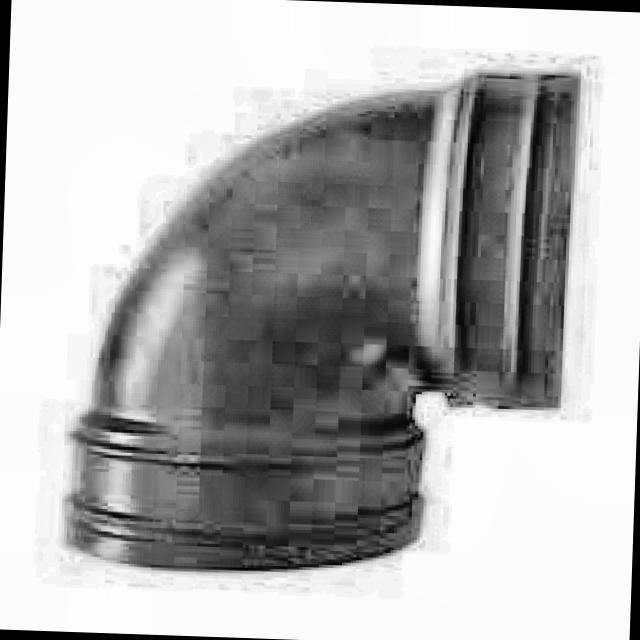ELBOW90: (62, 68, 583, 572)
